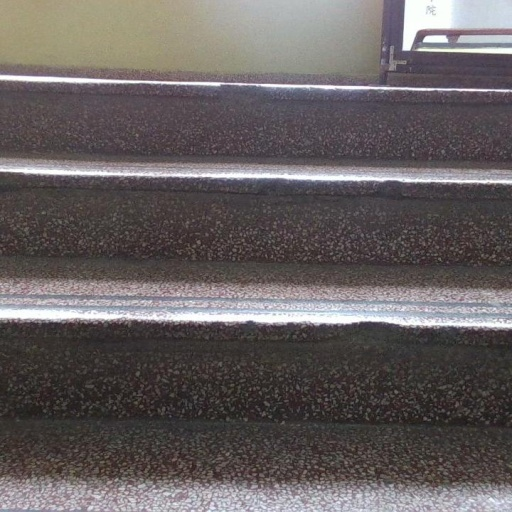Stairs: (0, 76, 512, 512)
